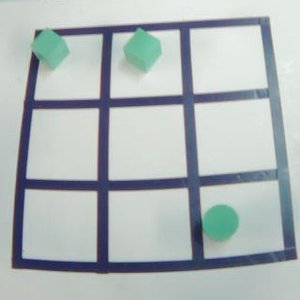cube: (118, 24, 170, 75), (24, 24, 75, 72)
cylinder: (195, 195, 253, 246)
empty: (101, 181, 200, 268), (186, 94, 281, 180), (16, 180, 106, 269), (102, 99, 193, 187), (23, 102, 105, 186), (183, 22, 273, 98)
